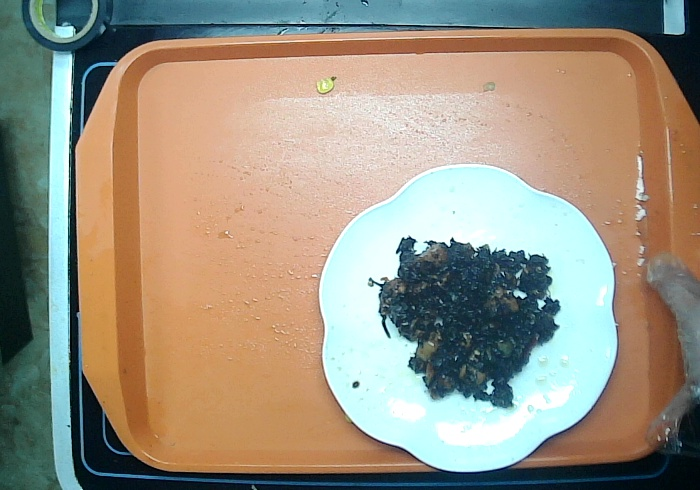HZYJPL-Bai_Se_Hua_Duo_Wan: (314, 161, 621, 474)
